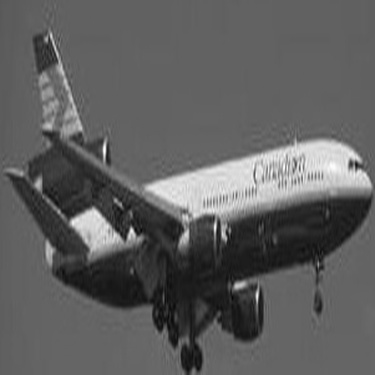airplane: (1, 1, 372, 372)
